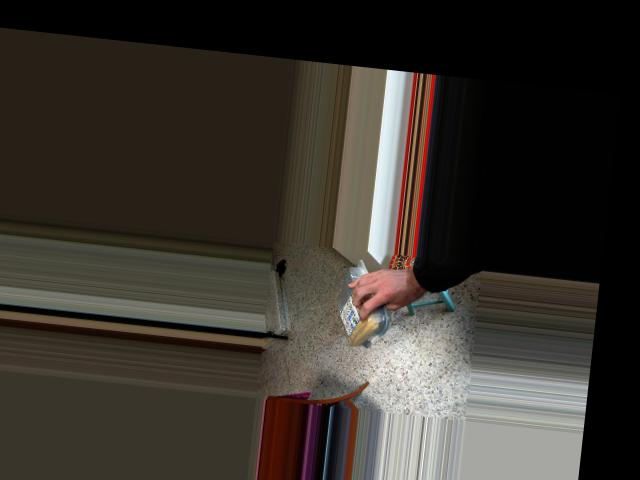cheese: (334, 258, 386, 349)
